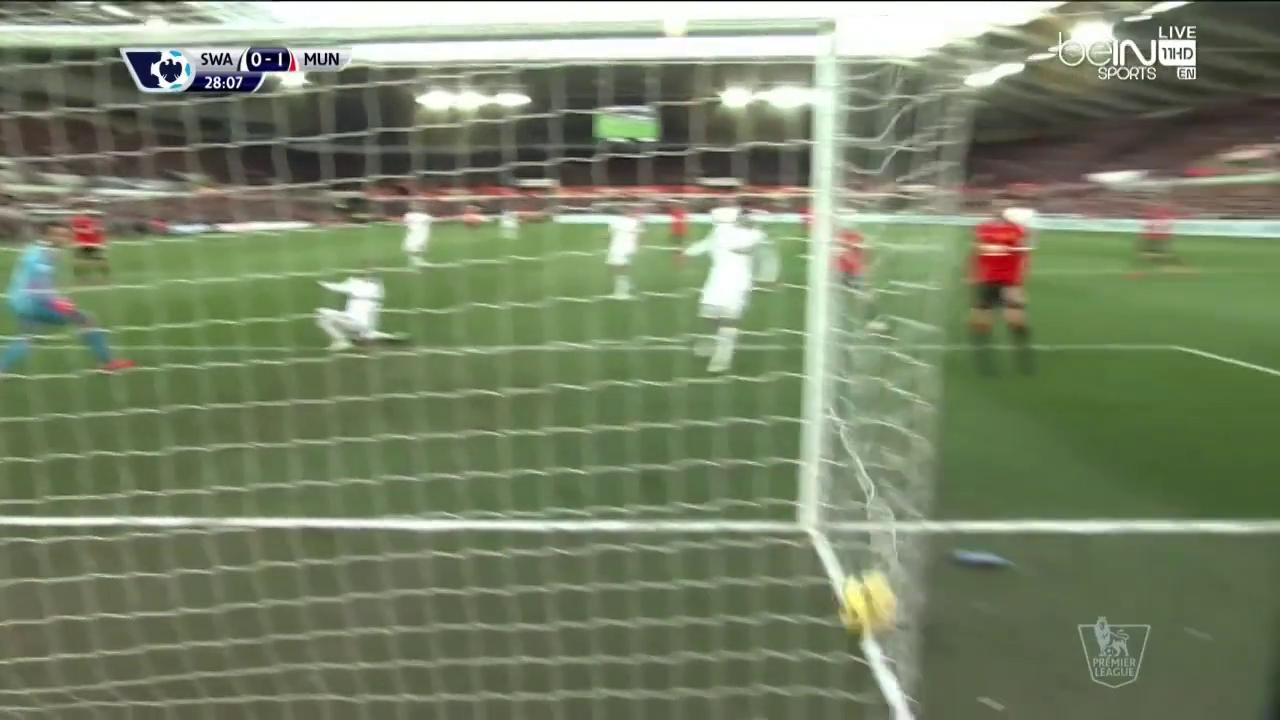football: (832, 573, 901, 638)
